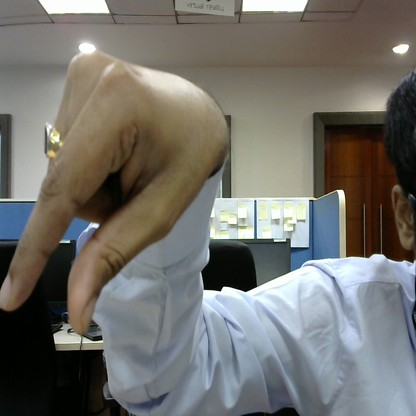q: (1, 44, 230, 339)
